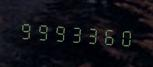nine: (17, 15, 33, 43), (34, 17, 50, 45), (51, 18, 67, 46)
six: (102, 21, 118, 49)
three: (68, 19, 84, 47), (85, 20, 101, 48)
zero: (119, 23, 135, 51)
